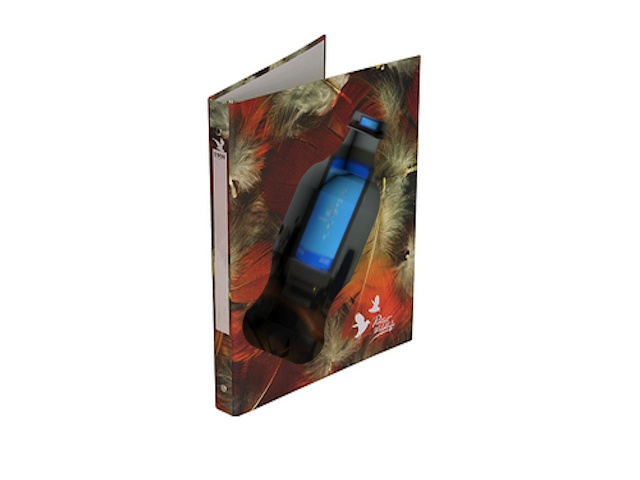bottle: (241, 105, 394, 369)
